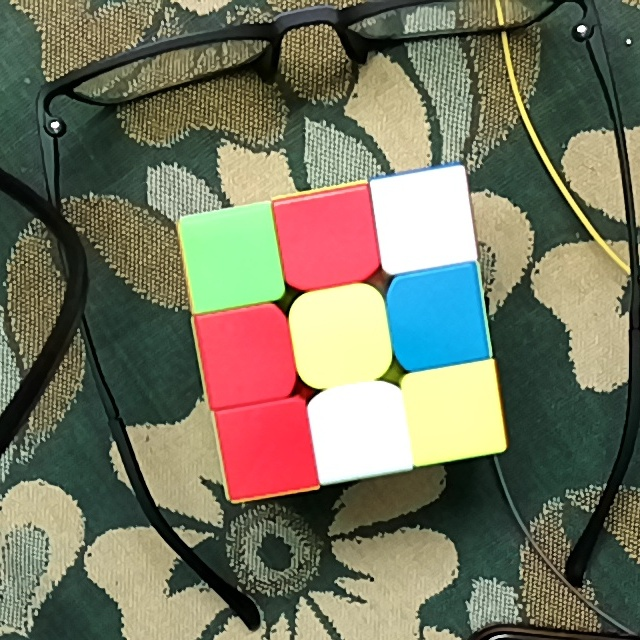tile: (192, 218, 268, 299), (385, 182, 461, 262), (287, 204, 370, 276), (303, 299, 378, 375), (404, 280, 477, 358), (232, 413, 306, 487), (212, 319, 284, 394), (422, 376, 494, 449), (329, 399, 397, 470)
